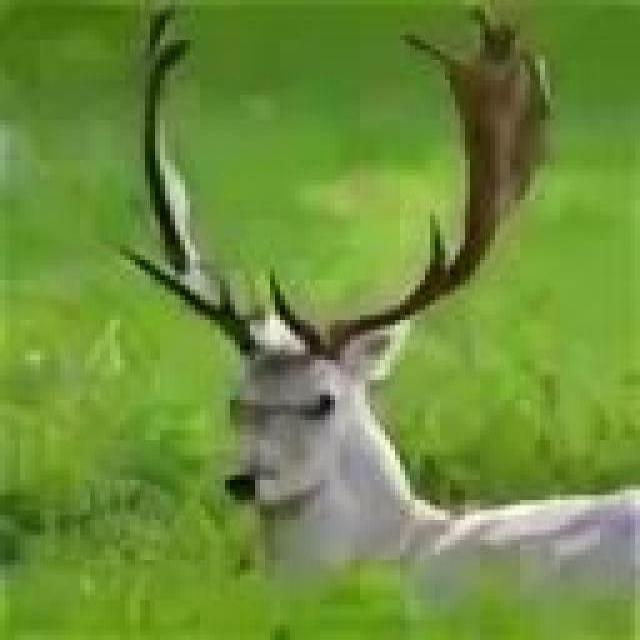deer: (167, 92, 640, 640)
